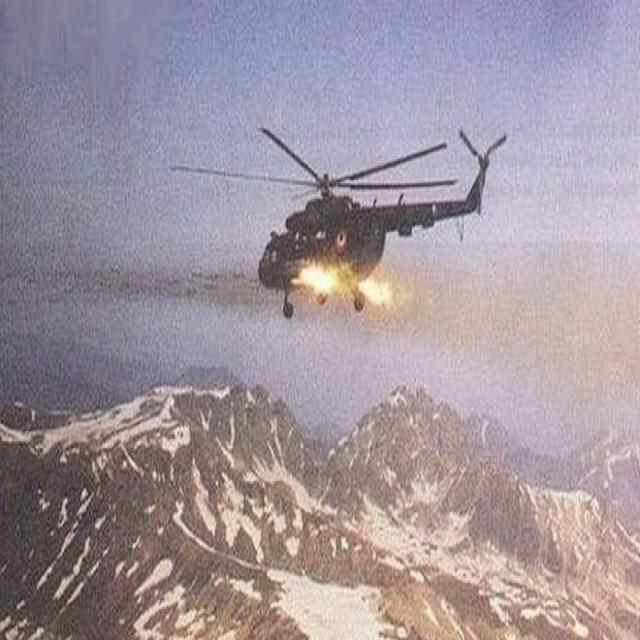helicopter: (168, 110, 519, 323)
